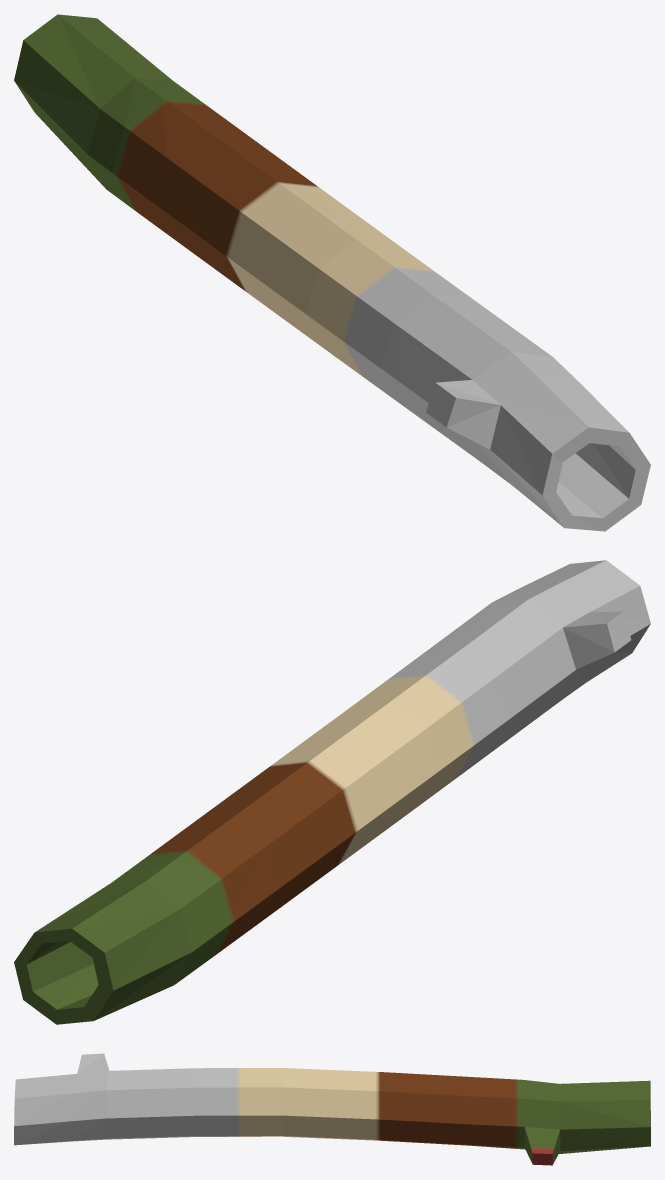
The model's file is Stump_09.fbx.
3 renders of one model, top to bottom at view 1: azimuth 30°, elevation 25°; view 2: azimuth 150°, elevation 25°; view 3: azimuth 270°, elevation 25°, orthographic. The views are drawn at different scales.
Visible parts, largest first — view 1: Stump_09; view 2: Stump_09; view 3: Stump_09.
Part boxes in pixels (box(x1,y1,x2,y2)): Stump_09: box(14, 14, 650, 531); Stump_09: box(14, 560, 650, 1024); Stump_09: box(14, 1053, 650, 1165).
Size of the model in its own units: 1.06 by 0.681 by 5.03.
